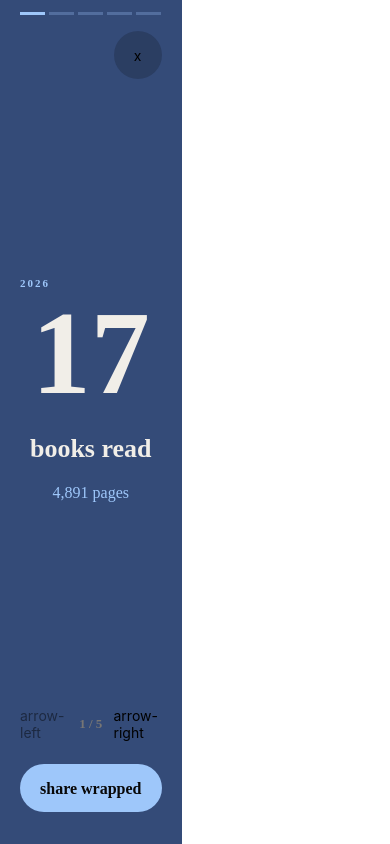
Test: feature interactions › supports explicit wrapped card previous and next navigation
Expected: the text "books read" is shown, [30,432,152,464]
Click the button with aria-label "Next share card" at (138, 724), box [114,700,162,748]
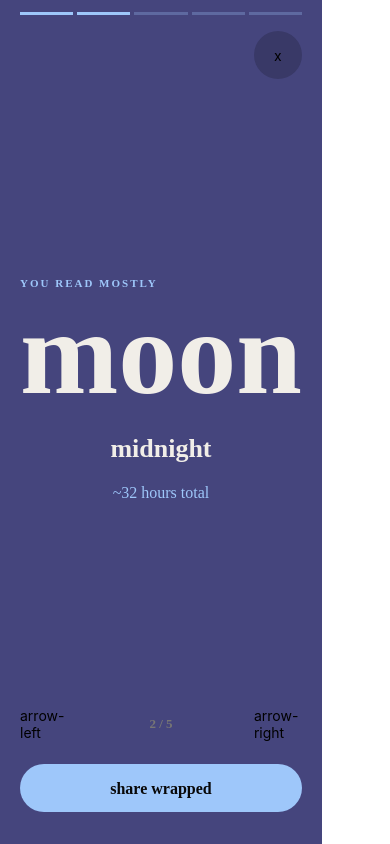
Now the text "midnight" is shown, box [110,432,212,464]
Click the button with aria-label "Previous share card" at (44, 724), box [20,700,68,748]
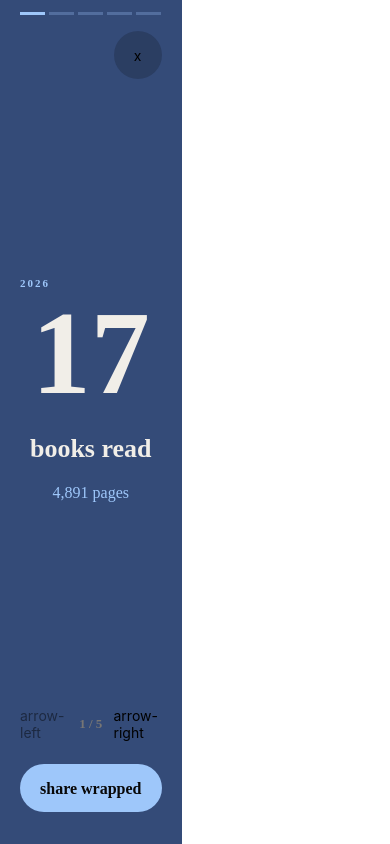
Now the text "books read" is shown, box [30,432,152,464]
